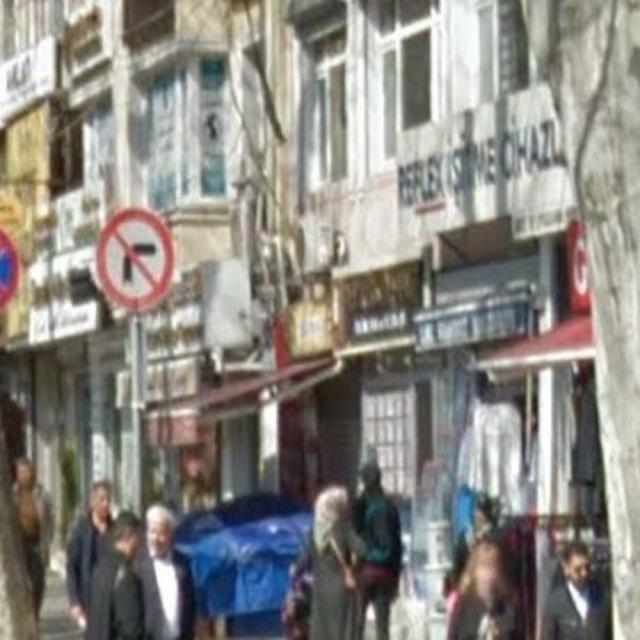sagadonulmez: (96, 209, 174, 307)
